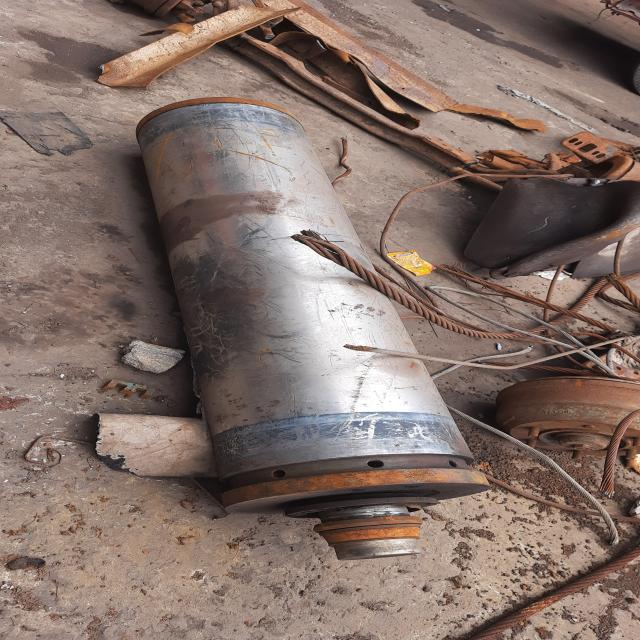Cylinder: (138, 98, 487, 560)
